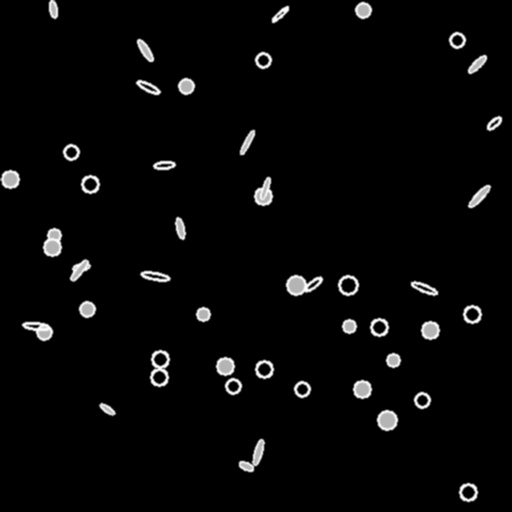pseudomonas: (467, 183, 491, 209), (69, 258, 89, 282), (238, 129, 256, 155), (135, 78, 161, 96), (136, 38, 154, 62), (411, 280, 437, 296), (467, 54, 487, 74), (251, 438, 265, 466), (140, 270, 170, 282), (303, 275, 323, 293), (271, 5, 289, 23), (259, 176, 271, 200), (174, 217, 186, 239), (486, 115, 502, 131), (22, 322, 50, 330), (99, 402, 115, 416), (238, 460, 254, 472), (48, 0, 58, 18), (153, 161, 175, 169), (73, 262, 89, 272)
synechocystis: (339, 276, 357, 294), (287, 276, 305, 294), (378, 411, 396, 429), (422, 322, 438, 338), (82, 176, 98, 192), (255, 188, 271, 204), (371, 319, 387, 335), (151, 369, 167, 385), (256, 361, 272, 377), (464, 306, 480, 322), (2, 171, 18, 187), (217, 358, 233, 374), (460, 484, 476, 500), (354, 381, 370, 397), (152, 351, 168, 367), (44, 239, 60, 255), (450, 33, 464, 47), (64, 145, 78, 159), (80, 302, 94, 316), (256, 53, 270, 67), (295, 382, 309, 396), (179, 79, 193, 93), (37, 325, 51, 339), (415, 393, 429, 407), (226, 379, 240, 393), (356, 3, 370, 17), (343, 320, 355, 332), (197, 308, 209, 320), (387, 354, 399, 366), (48, 229, 60, 241)
